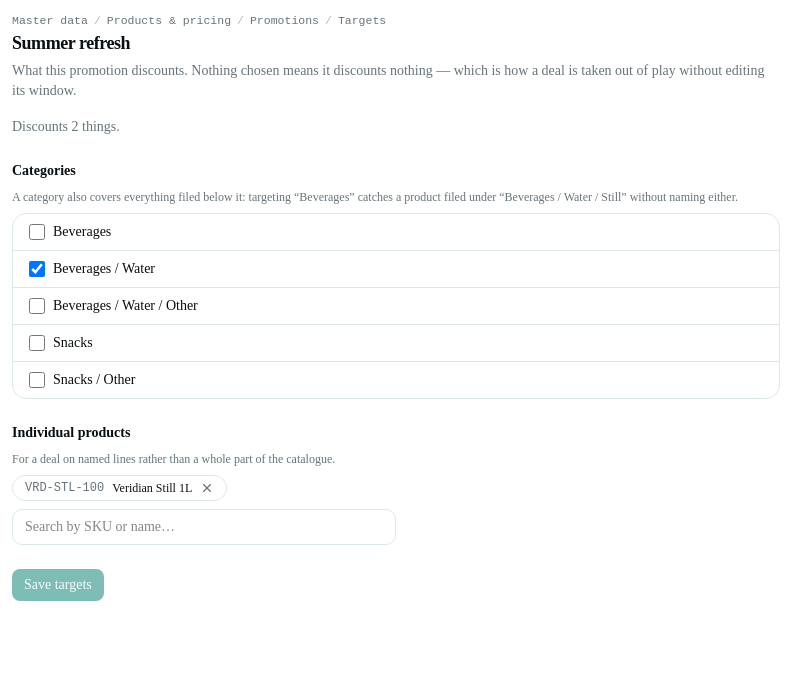
Scenario: <PromotionTargets> › passes on a refusal in the API's own words
Expected: the button "Save targets" is shown, [12,569,104,601]
Click the checkbox named "Target Snacks". click: x=37, y=343
box: [29,335,45,351]
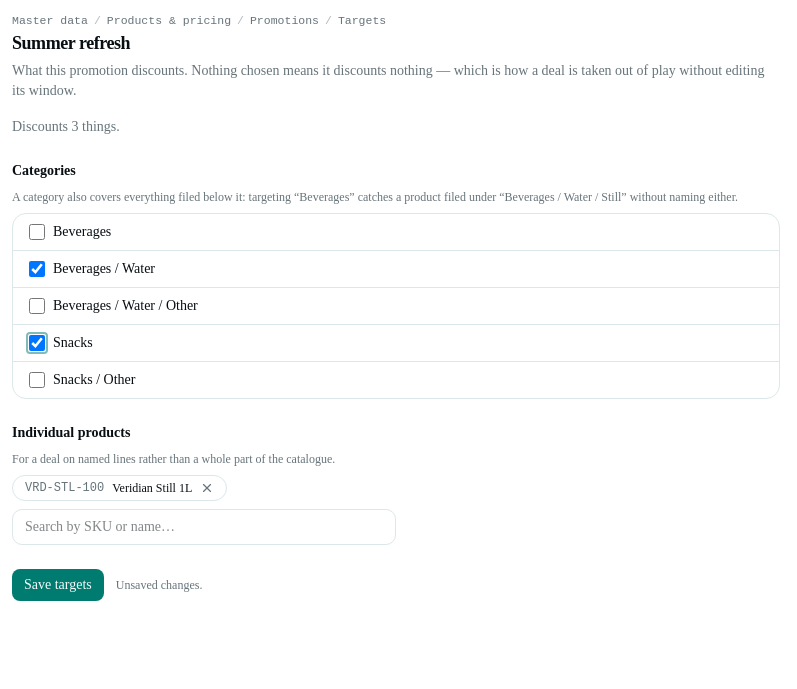
Click the button "Save targets". click: x=58, y=585
box: [12,569,104,601]
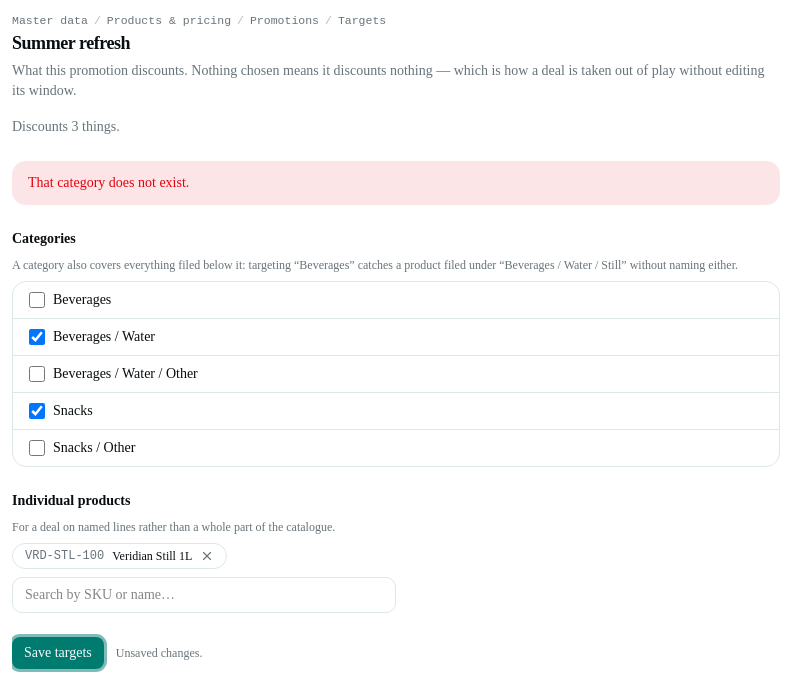
Result: the message "That category does not exist." is shown at [12,161,780,205]
